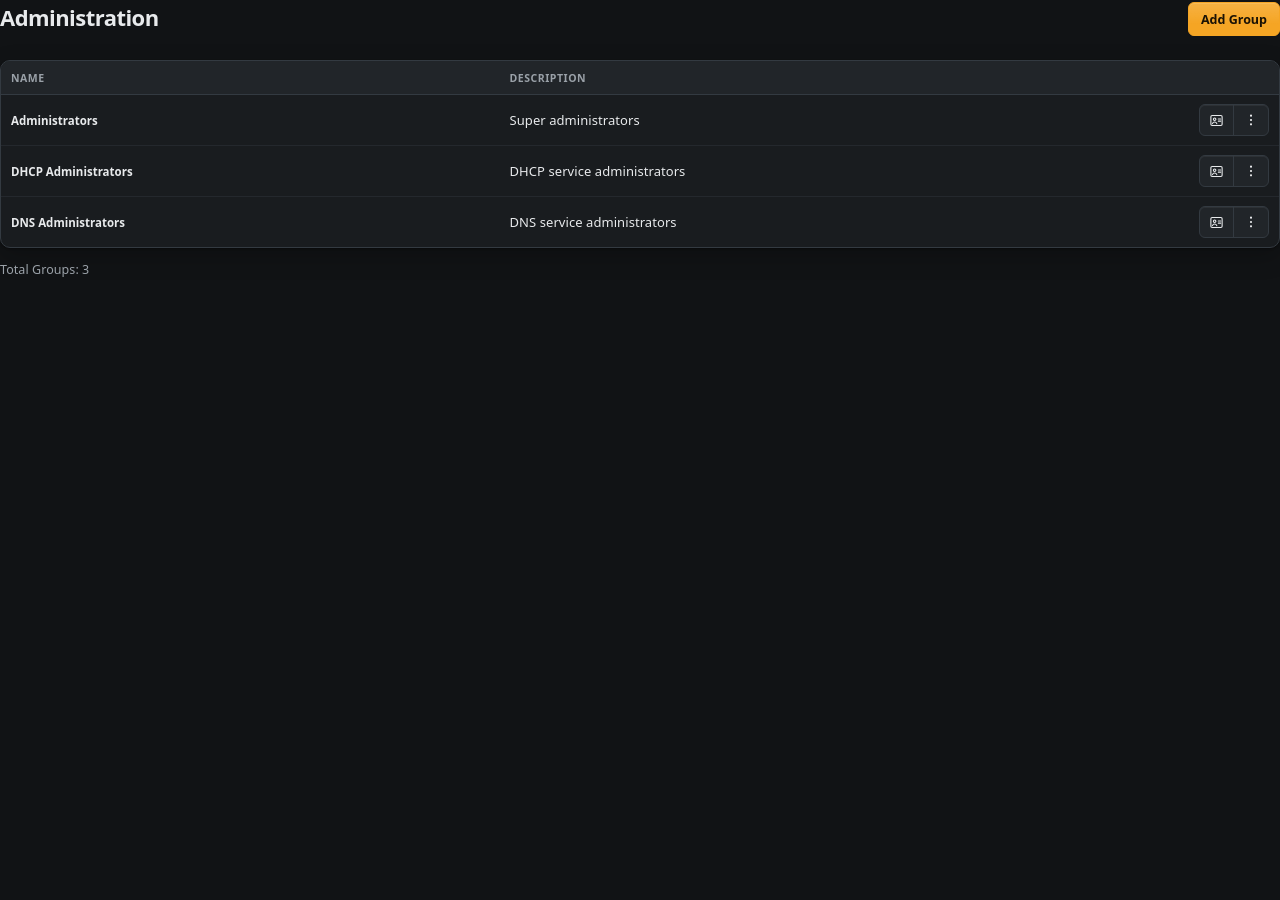
Groups: "Add Group" › it requires the name and nothing else
Click the button "Add Group" at (1234, 19), box [1188,2,1279,36]
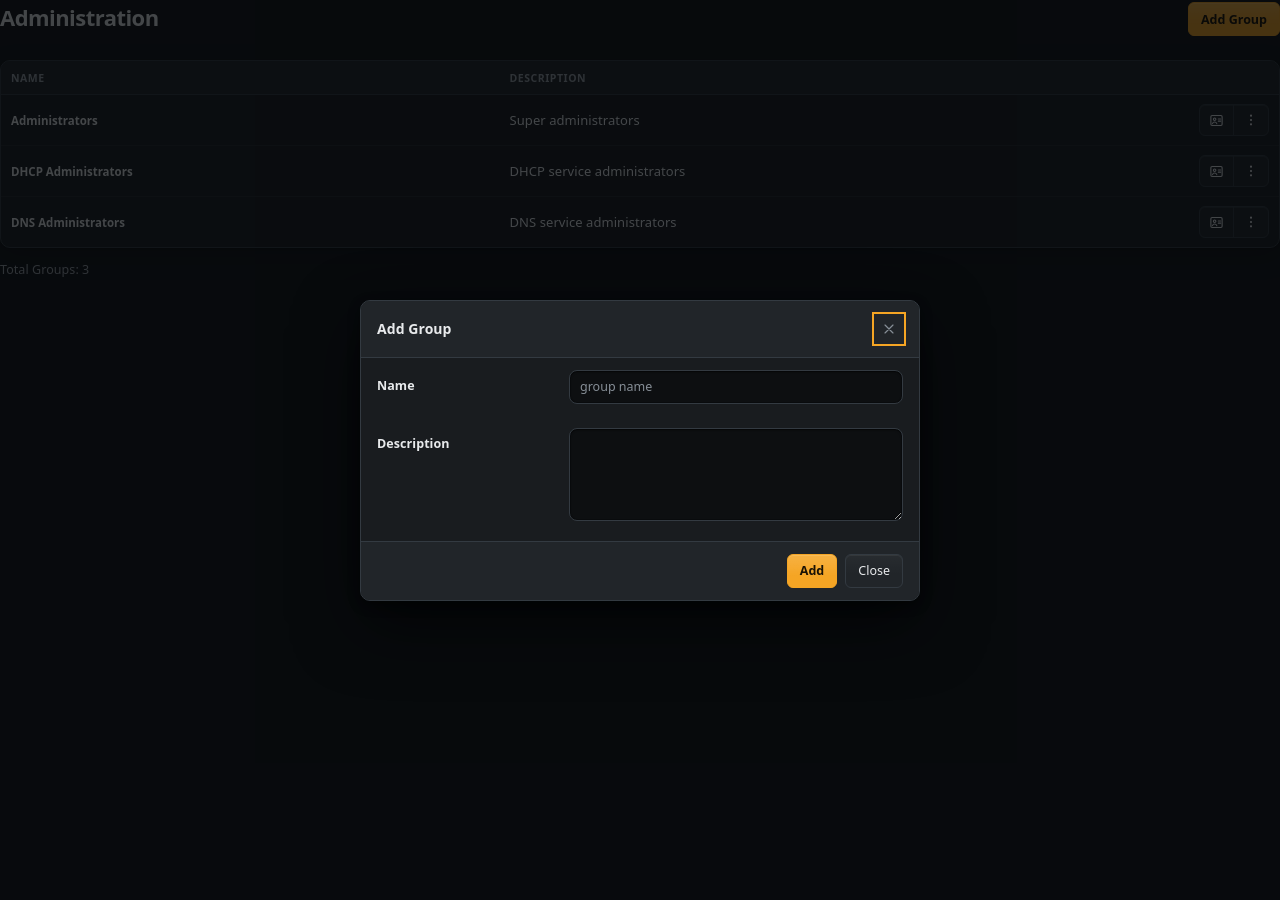
Click the button "Add" at (812, 570), box [787,554,837,588]
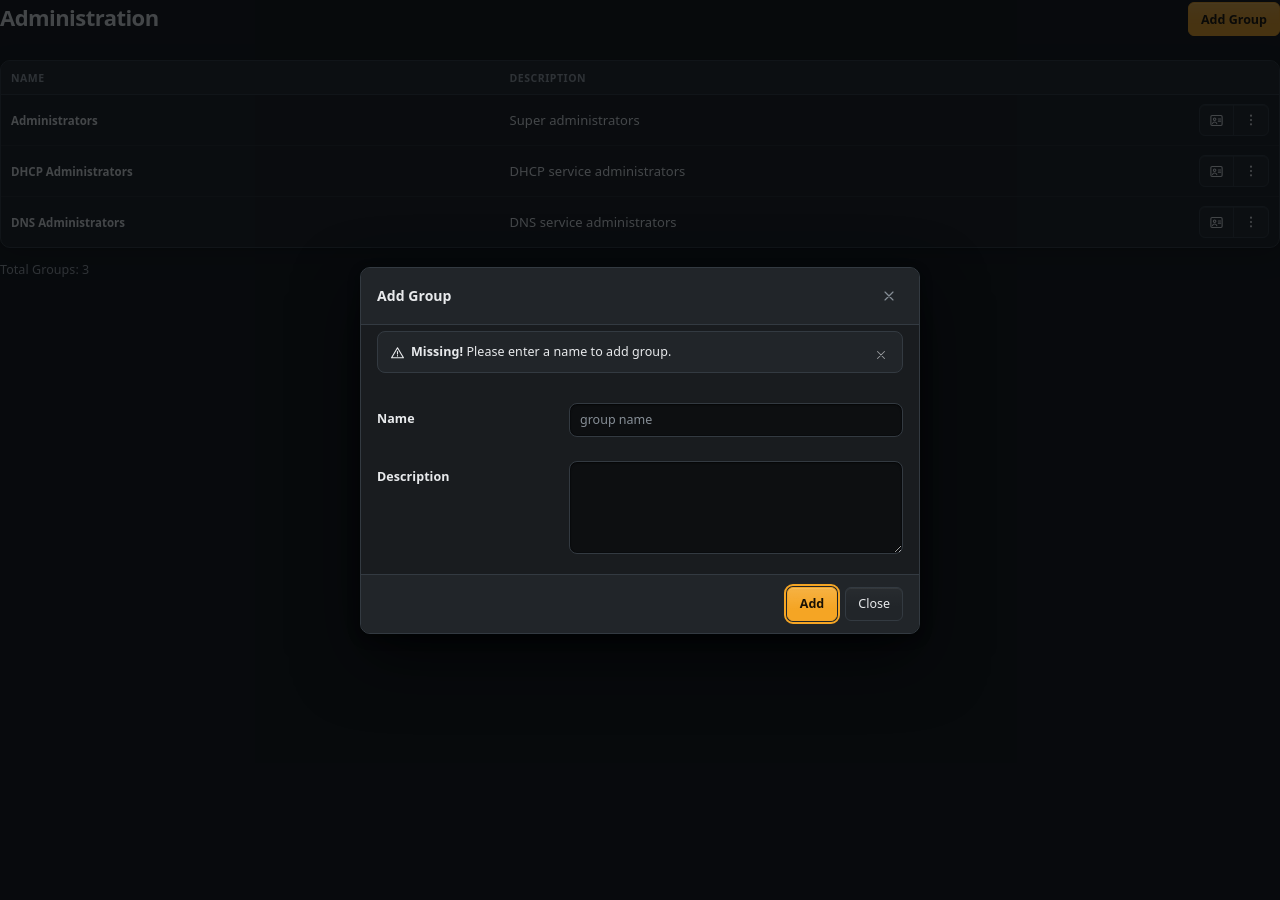
Now the text "Please enter a name to add group." is shown, box [466,342,671,360]
